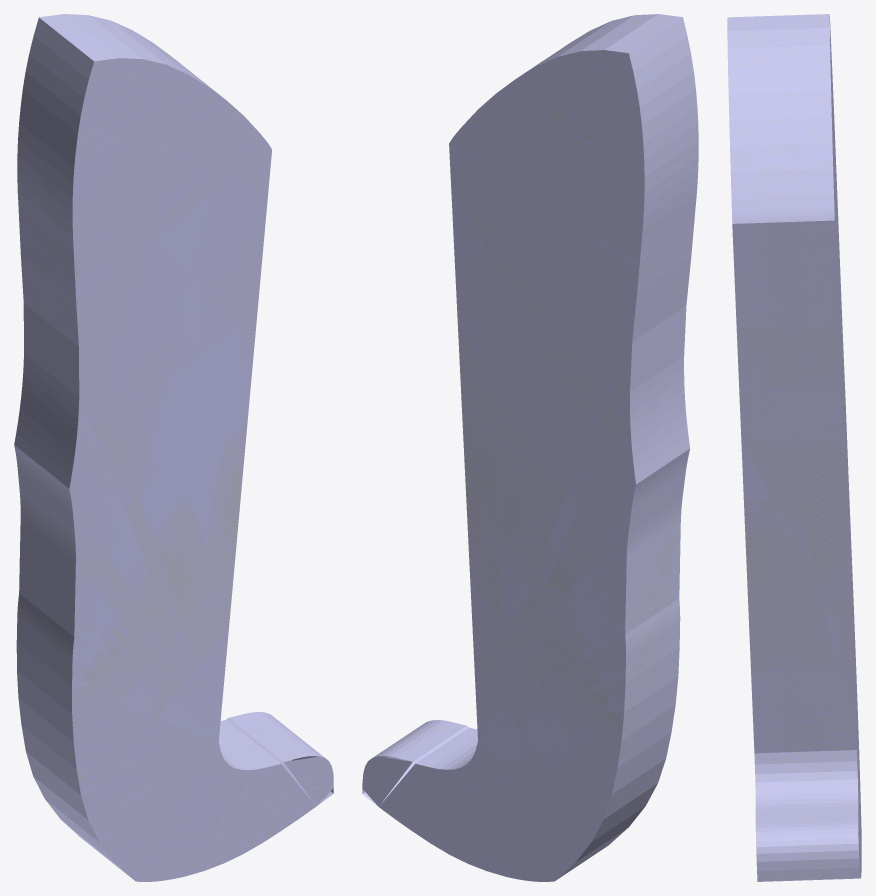
The model's file is original-68.obj.
3 renders of one model, left to right at view 1: azimuth 30°, elevation 25°; view 2: azimuth 150°, elevation 25°; view 3: azimuth 270°, elevation 25°, orthographic. The views are drawn at different scales.
Parts seen in each view (by area): view 1: mesh65/mesh65-geometry#mesh65-geometry; view 2: mesh65/mesh65-geometry#mesh65-geometry; view 3: mesh65/mesh65-geometry#mesh65-geometry.
Boxes of the visible parts, left/top/right/bottom form: mesh65/mesh65-geometry#mesh65-geometry: left=14, top=14, right=333, bottom=881; mesh65/mesh65-geometry#mesh65-geometry: left=362, top=14, right=698, bottom=881; mesh65/mesh65-geometry#mesh65-geometry: left=727, top=14, right=861, bottom=881.
Bounding box in the file's own units: 0.0203 × 0.0607 × 0.00929.
